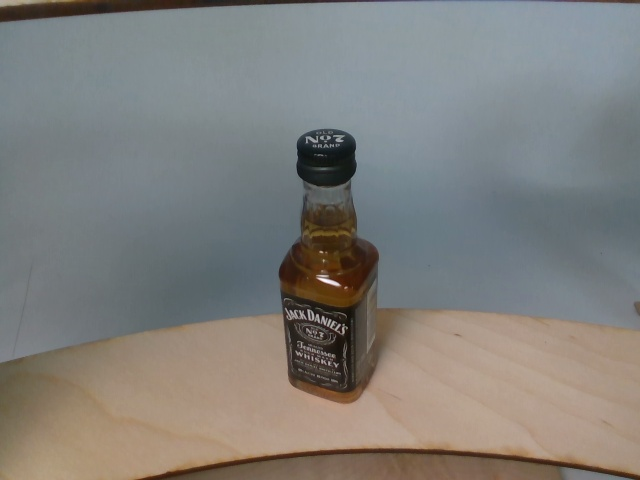whiskey: (278, 129, 381, 406)
